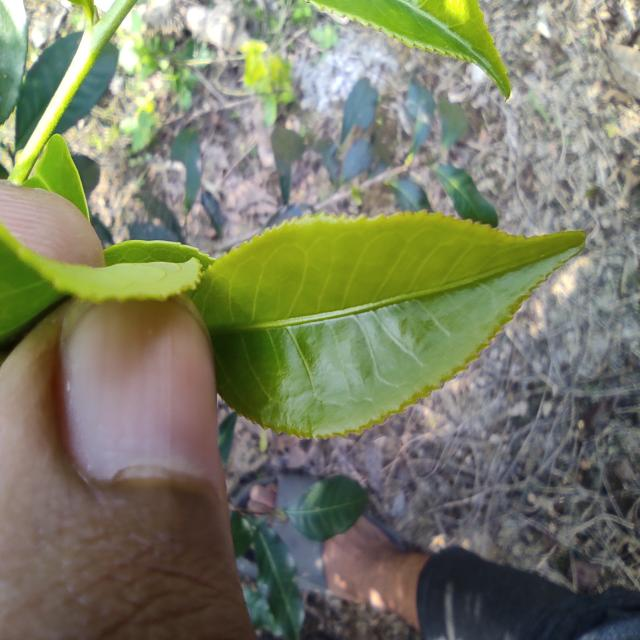Category B(2-4 days): (158, 205, 592, 444)
